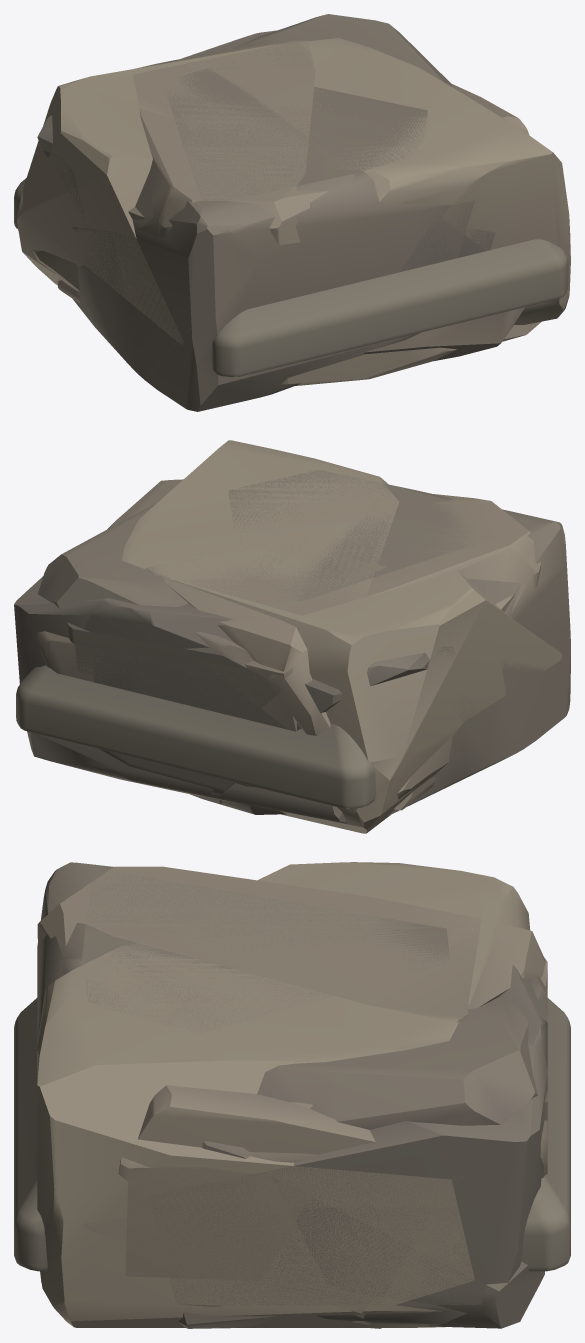
File: pr_stonewall.glb
3 views of the same model, one above another, from view 1: azimuth 30°, elevation 25°; view 2: azimuth 150°, elevation 25°; view 3: azimuth 270°, elevation 25° (orthographic). The views are drawn at different scales.
Visible parts, largest first — view 1: PR_stonewall__stone5, PR_stonewall__stone2, PR_stonewall__stone0, PR_stonewall__cap0, PR_stonewall__stone4, PR_stonewall__stone1, PR_stonewall__stone3; view 2: PR_stonewall__stone2, PR_stonewall__stone5, PR_stonewall__cap0, PR_stonewall__stone0, PR_stonewall__stone3, PR_stonewall__stone1, PR_stonewall__stone4; view 3: PR_stonewall__stone2, PR_stonewall__stone0, PR_stonewall__stone3, PR_stonewall__stone5, PR_stonewall__stone1, PR_stonewall__stone4, PR_stonewall__cap0.
Boxes of the visible parts, <box> form: PR_stonewall__stone5: <box>72,68,474,411</box>; PR_stonewall__stone2: <box>17,38,570,345</box>; PR_stonewall__stone0: <box>32,41,541,385</box>; PR_stonewall__cap0: <box>14,178,568,377</box>; PR_stonewall__stone4: <box>58,83,529,361</box>; PR_stonewall__stone1: <box>232,14,452,87</box>; PR_stonewall__stone3: <box>37,30,495,271</box>; PR_stonewall__stone2: <box>122,440,561,833</box>; PR_stonewall__stone5: <box>27,470,570,823</box>; PR_stonewall__cap0: <box>16,665,376,808</box>; PR_stonewall__stone0: <box>145,494,540,820</box>; PR_stonewall__stone3: <box>14,576,455,803</box>; PR_stonewall__stone1: <box>38,505,286,814</box>; PR_stonewall__stone4: <box>36,479,514,810</box>; PR_stonewall__stone2: <box>37,862,530,1327</box>; PR_stonewall__stone0: <box>37,866,545,1280</box>; PR_stonewall__stone3: <box>151,965,547,1325</box>; PR_stonewall__stone5: <box>37,862,544,1328</box>; PR_stonewall__stone1: <box>178,975,547,1328</box>; PR_stonewall__stone4: <box>40,913,547,1328</box>; PR_stonewall__cap0: <box>14,998,570,1271</box>.
Bounding box in the file's own units: 0.6 × 0.3 × 0.6.
